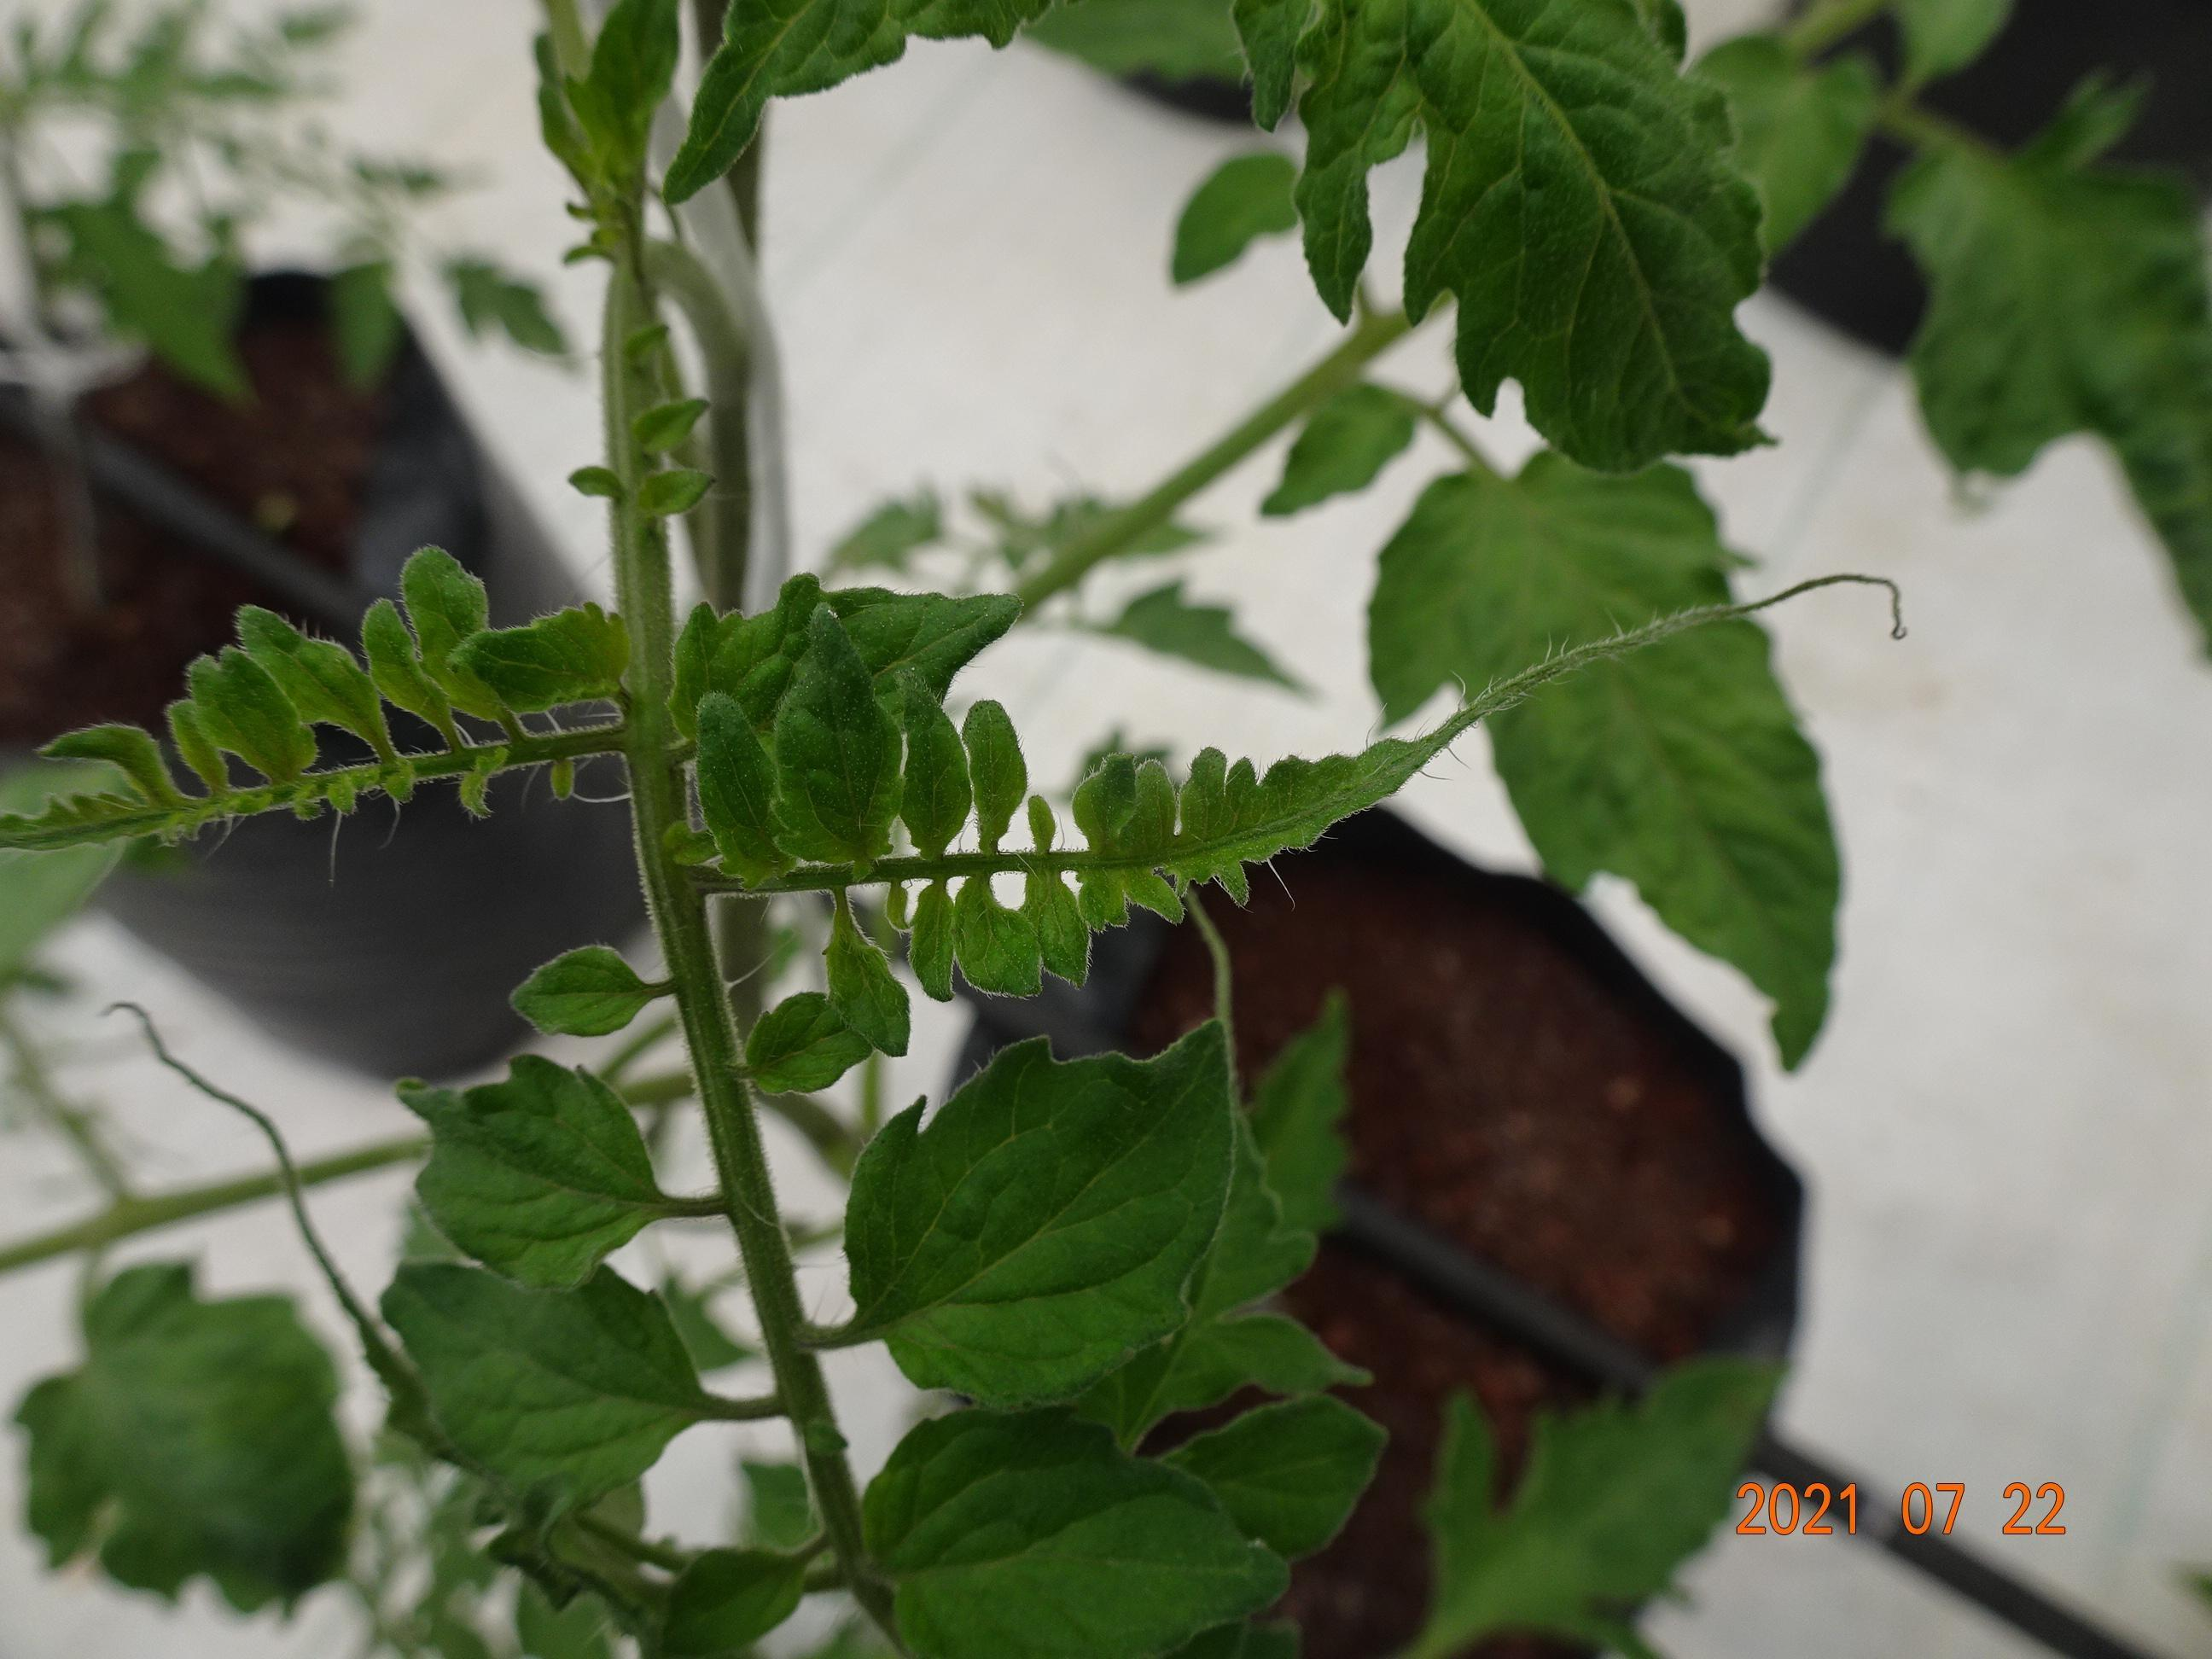Rugose leaf: (1296, 0, 1768, 471)
